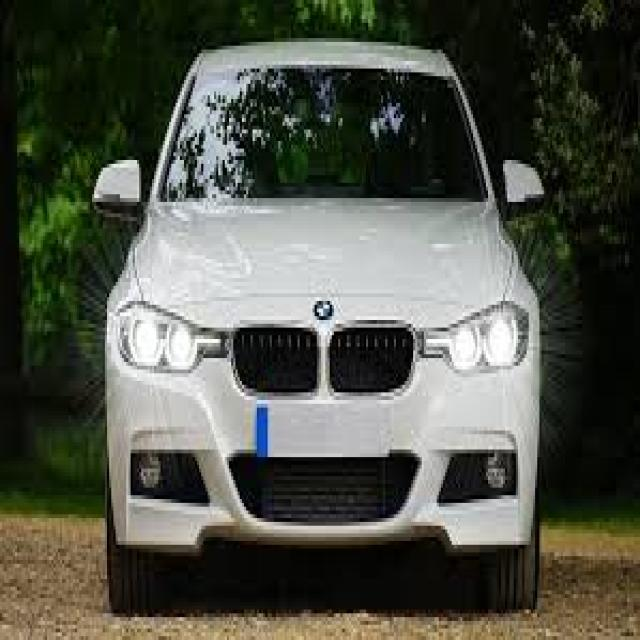SUV: (90, 31, 550, 614)
